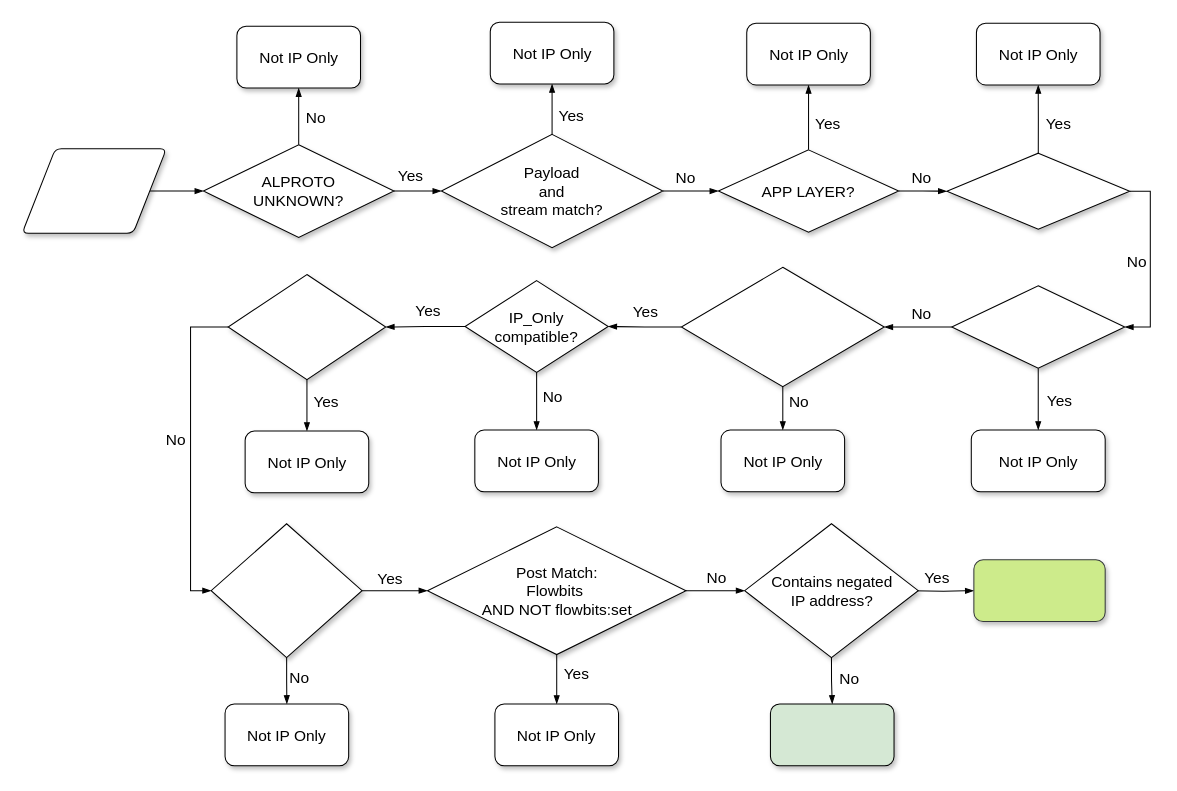
Some shapes in this 1177 by 791 pixel diagram are drawn without their labels. The shapes that lost their labels are listed below. From the top down, each one's centre as x and y in pixels, then its label:
At pixel 95 192: "Signature".
At pixel 1039 192: "Flow direction set?".
At pixel 307 328: "Flowbits AND NOT flowbits:set".
At pixel 783 328: "Non-payload per-packet match?".
At pixel 1039 328: "Buffer inspection?".
At pixel 287 592: "Post Match: IP_Only compatible?".
At pixel 1040 592: "Like IP Only".
At pixel 832 736: "IP Only".
